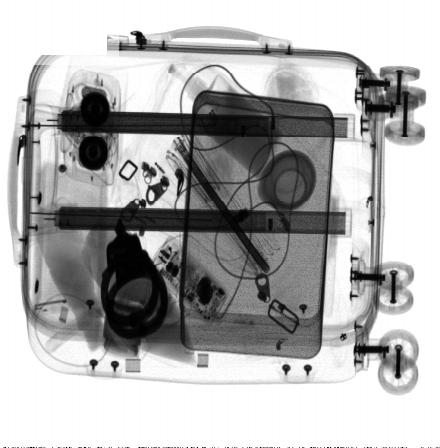HandCuffs: (99, 217, 168, 339)
